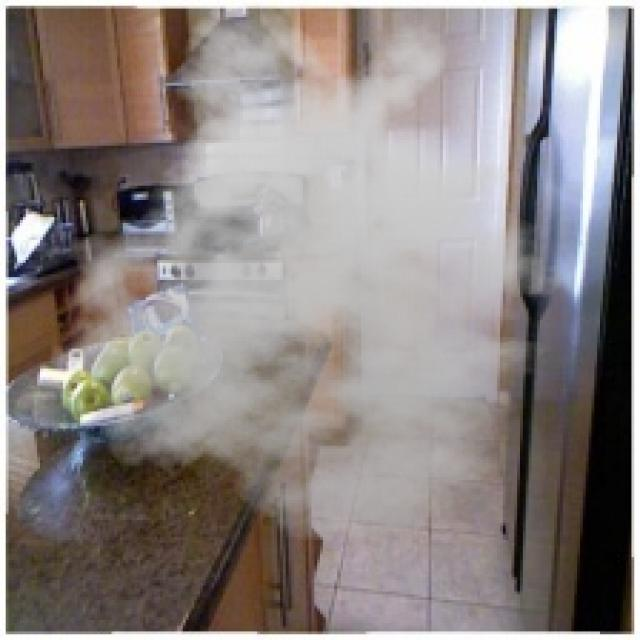smoke: (37, 0, 600, 543)
